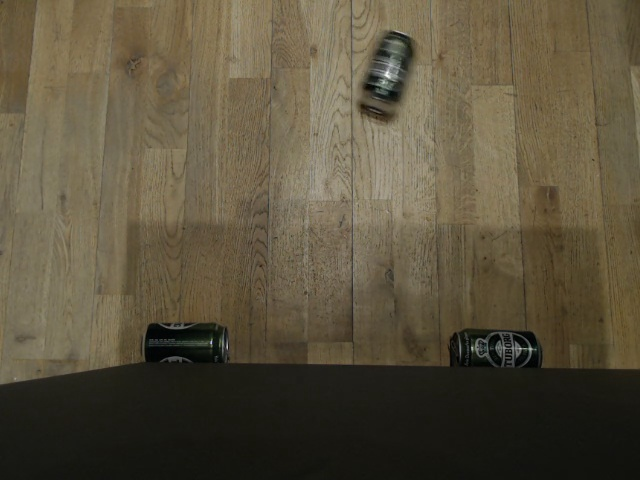beer: (356, 30, 414, 117), (447, 327, 542, 366), (138, 321, 228, 360)
